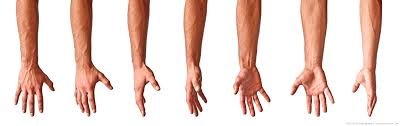hand: (287, 59, 339, 123), (228, 59, 274, 125), (68, 55, 115, 118), (9, 59, 53, 125), (176, 59, 214, 125), (126, 59, 165, 123), (347, 64, 385, 120)
